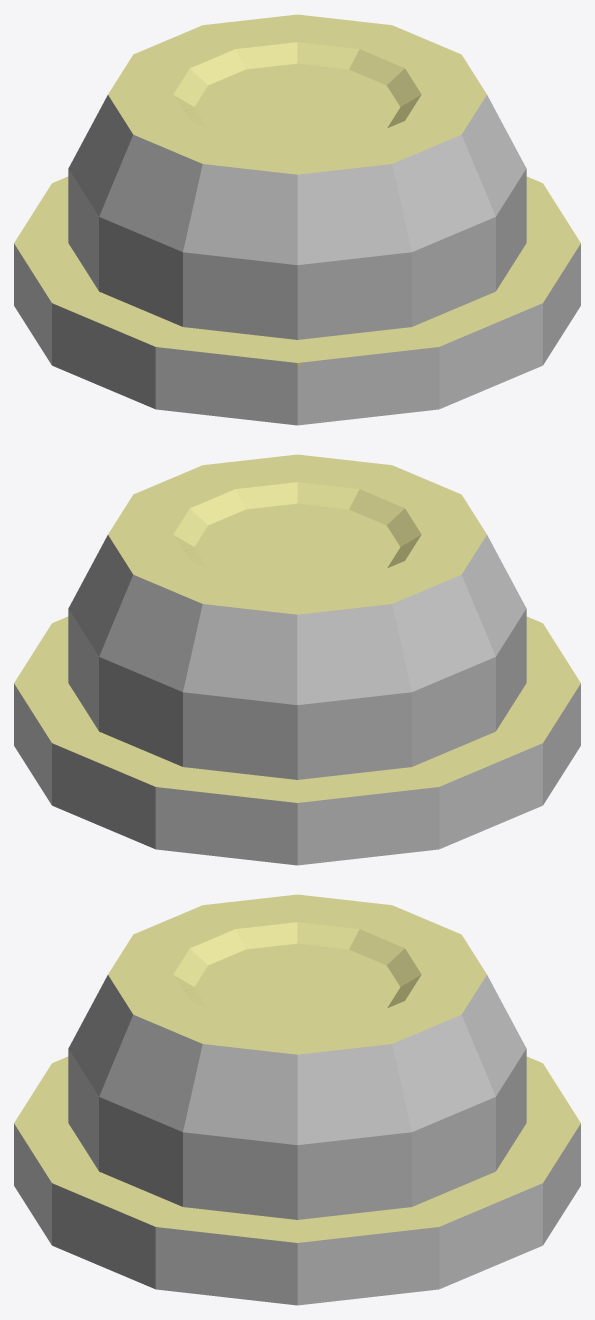
File: Smoke_dector.fbx
3 renders of one model, top to bottom at view 1: azimuth 30°, elevation 25°; view 2: azimuth 150°, elevation 25°; view 3: azimuth 270°, elevation 25°, orthographic.
Parts seen in each view (by area): view 1: Kitchen_smoke_dector:pCylinder1; view 2: Kitchen_smoke_dector:pCylinder1; view 3: Kitchen_smoke_dector:pCylinder1.
Part boxes in pixels (bbox=[...]): Kitchen_smoke_dector:pCylinder1: bbox=[14, 14, 580, 425]; Kitchen_smoke_dector:pCylinder1: bbox=[14, 454, 580, 865]; Kitchen_smoke_dector:pCylinder1: bbox=[14, 894, 580, 1305].
Size of the model in its own units: 14.07 by 5.78 by 14.07.
